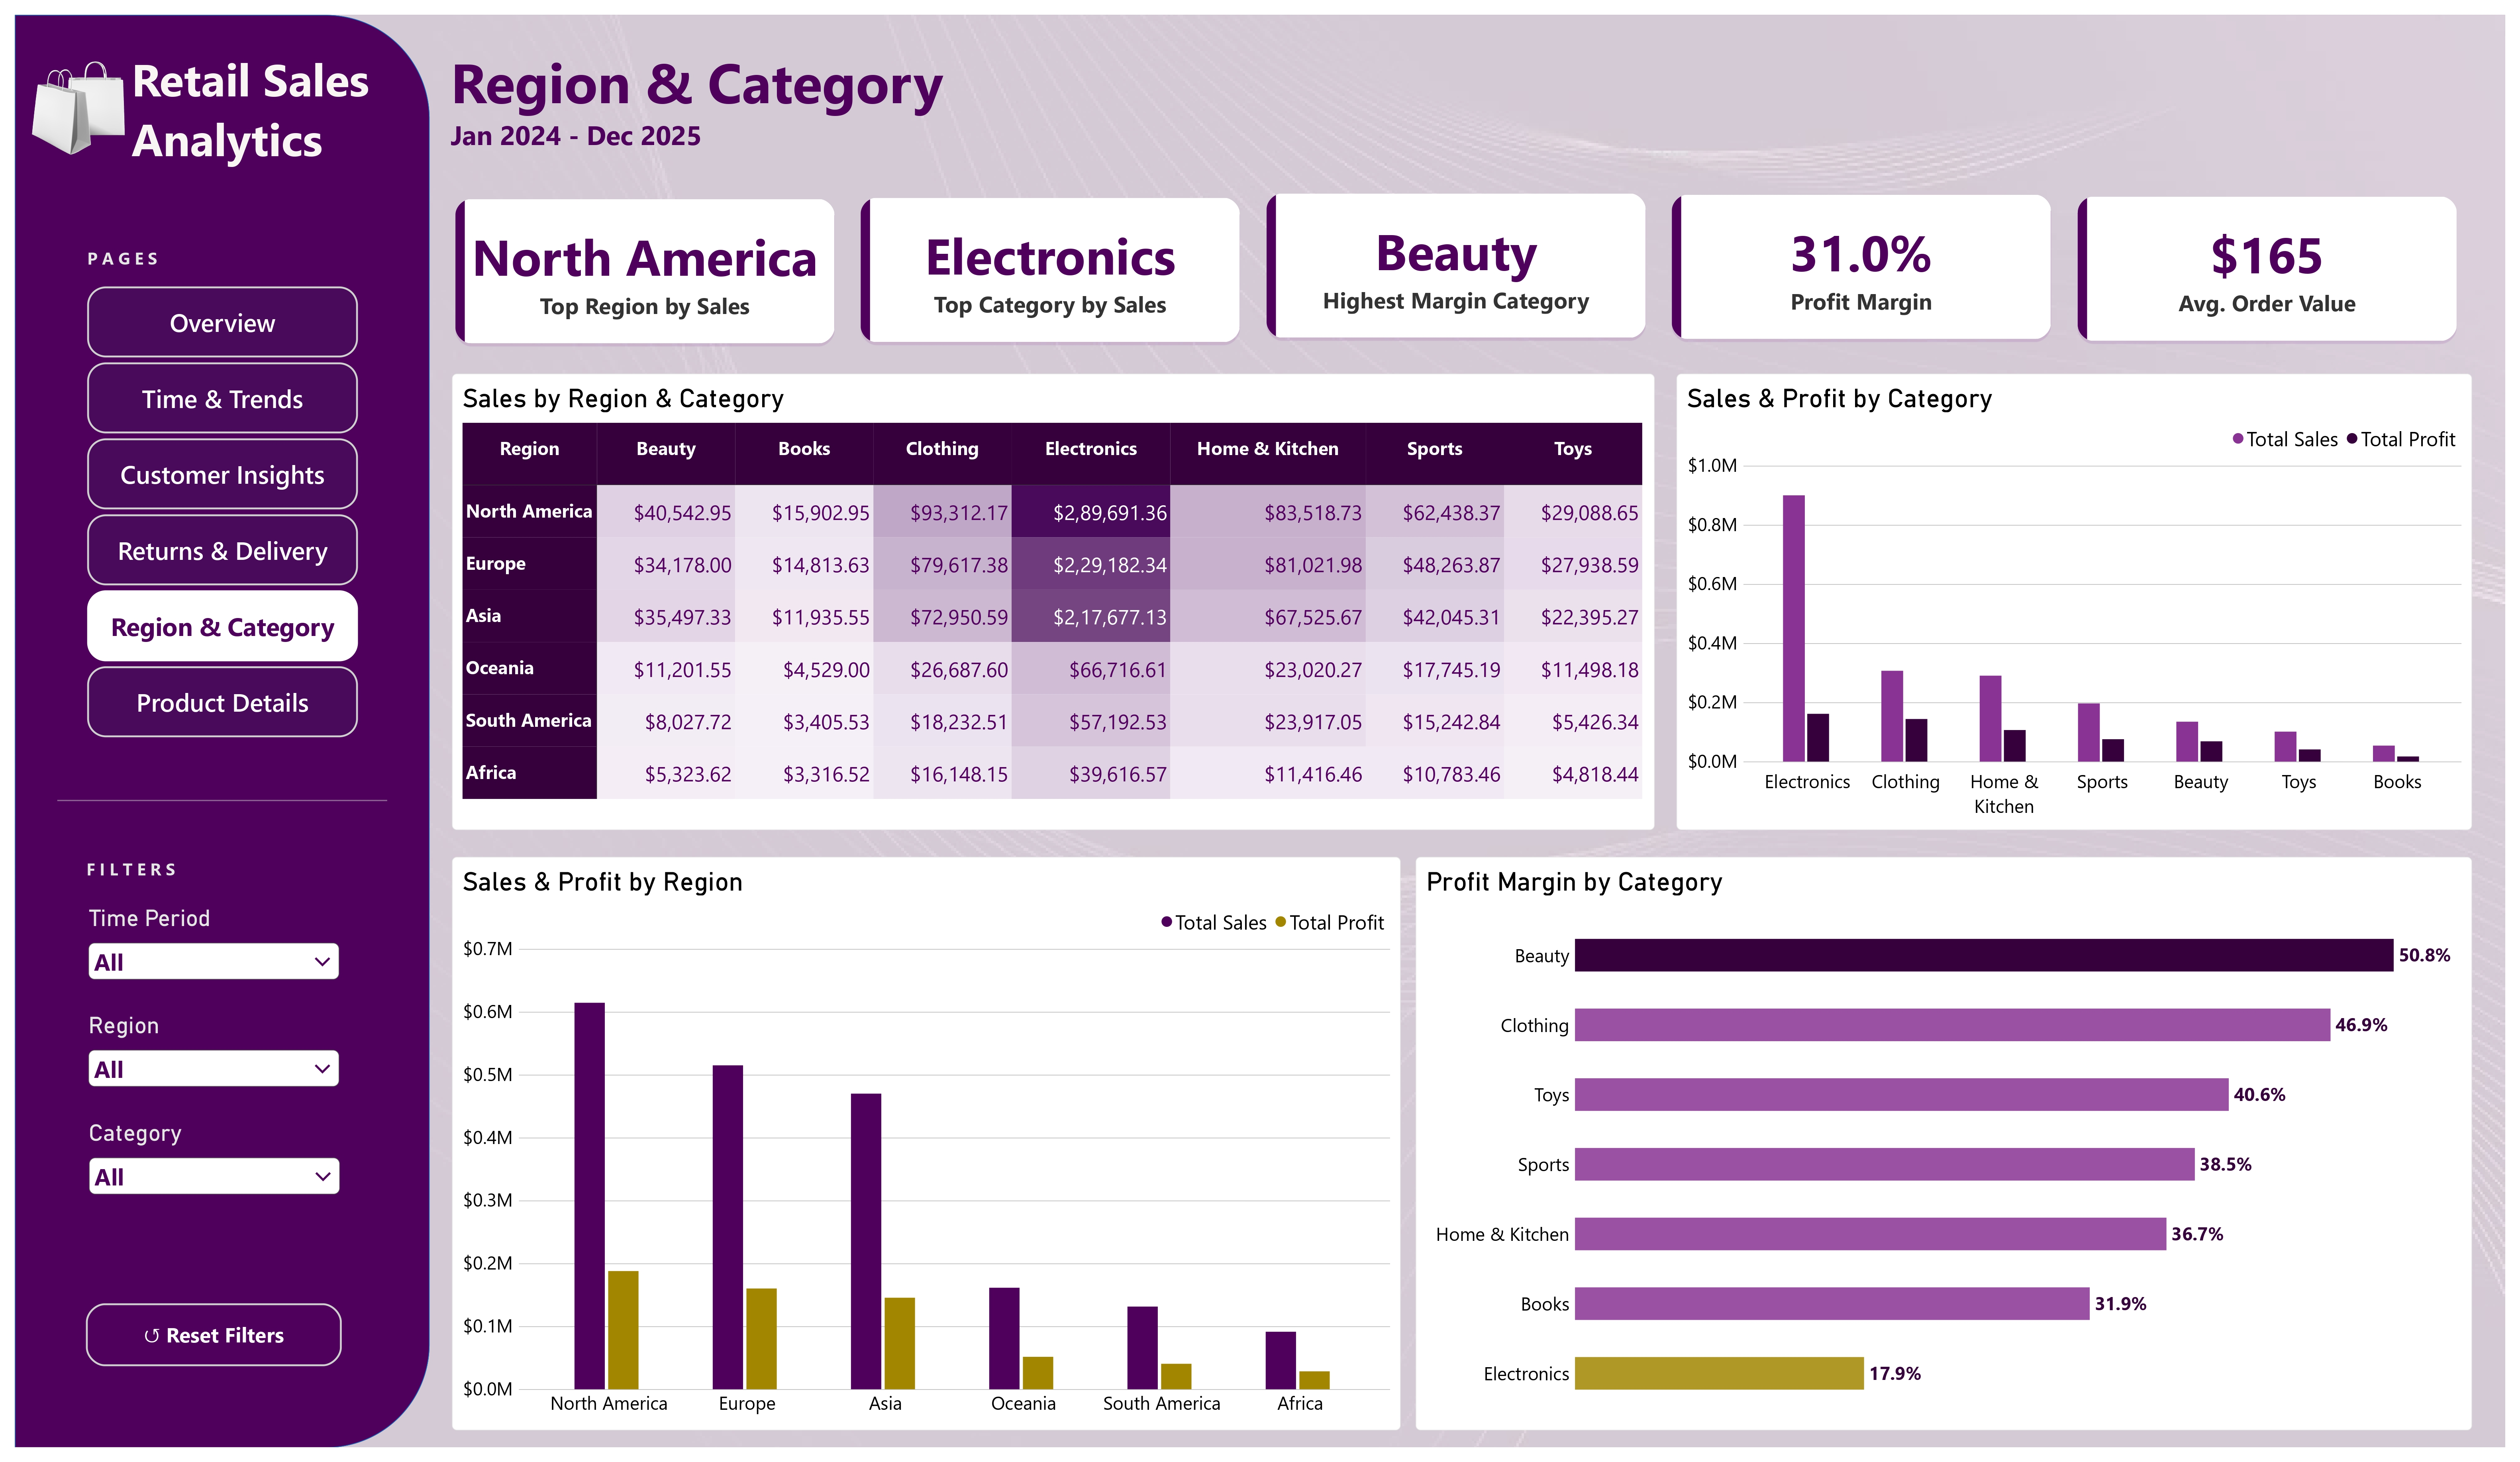

This screenshot's page, from the dashboard's own definition file:
{"tool":"powerbi","page":{"name":"Region & Category","canvas":[4000,2300],"ordinal":4},"visuals":[{"type":"shape","box":[0,0,666.3,2300.8],"z":0},{"type":"textbox","box":[186.7,53.3,419.4,215.6],"z":1000},{"type":"image","box":[0,35.3,203.8,227.3],"z":2000},{"type":"pageNavigator","box":[115.6,435.6,435.6,724.4],"z":3000},{"type":"textbox","box":[700,46.7,1236.7,143.3],"z":4000},{"type":"textbox","box":[700,163.3,420,70],"z":5000},{"type":"textbox","box":[116,372,132,40],"z":6000},{"type":"shape","box":[67.5,1150,530,222.5],"z":7000},{"type":"textbox","box":[115,1352.5,145,40],"z":8000},{"type":"listSlicer","title":"Time Period","fields":{"Values":["Date.Year"]},"box":[101.8,1413.6,435,160],"z":9000},{"type":"listSlicer","title":"Region","fields":{"Values":["Table1.region"]},"box":[102.2,1586.2,435,160],"z":10000},{"type":"listSlicer","title":"Category","fields":{"Values":["Table1.product_category"]},"box":[102.5,1758.8,435,160],"z":11000},{"type":"actionButton","box":[113.8,2068.8,411.2,101.2],"z":12000},{"type":"cardVisual","fields":{"Data":["Table1.Top Region by Sales"]},"box":[701.6,290,620,243],"z":13000},{"type":"cardVisual","fields":{"Data":["Table1.Top Category by Sales"]},"box":[1353.2,287.9,620,243],"z":14000},{"type":"cardVisual","title":"Average Order Value","fields":{"Data":["Table1.Profit Margin"]},"box":[2656.5,283.4,620,243],"z":15000},{"type":"cardVisual","fields":{"Data":["Table1.Avg. Order Value"]},"box":[3308.1,285.6,620,243],"z":16000},{"type":"cardVisual","fields":{"Data":["Table1.Highest Margin Category"]},"box":[2004.9,281.2,620,243],"z":17000},{"type":"pivotTable","title":"Sales by Region & Category","fields":{"Columns":["Table1.product_category"],"Rows":["Table1.region"],"Values":["Table1.Total Sales"]},"box":[701.6,576.2,1932.4,733],"z":19000},{"type":"clusteredColumnChart","title":"Sales & Profit by Region","fields":{"Category":["Table1.region"],"Y":["Table1.Total Sales","Table1.Total Profit"]},"box":[701.6,1352.3,1524.7,921.1],"z":20000},{"type":"clusteredBarChart","title":"Profit Margin by Category","fields":{"Category":["Table1.product_category"],"Y":["Table1.Profit Margin"]},"box":[2249.8,1352.3,1697.2,921.1],"z":21000},{"type":"clusteredColumnChart","title":"Sales & Profit by Category","fields":{"Category":["Table1.product_category"],"Y":["Table1.Total Sales","Table1.Total Profit"]},"box":[2669.2,576.2,1277.8,733],"z":22000}]}

Visuals, with their boxes on the page's 4000x2300 design canvas (x1, y1, x2, y2). These are canvas units, not pixel positions in the 2520x1462 screenshot, which may show the page scaled, cropped or inside an application window:
shape: <region>0, 0, 666, 2301</region>
textbox: <region>187, 53, 606, 269</region>
image: <region>0, 35, 204, 263</region>
pageNavigator: <region>116, 436, 551, 1160</region>
textbox: <region>700, 47, 1937, 190</region>
textbox: <region>700, 163, 1120, 233</region>
textbox: <region>116, 372, 248, 412</region>
shape: <region>68, 1150, 598, 1372</region>
textbox: <region>115, 1352, 260, 1392</region>
"Time Period" listSlicer: <region>102, 1414, 537, 1574</region>
"Region" listSlicer: <region>102, 1586, 537, 1746</region>
"Category" listSlicer: <region>102, 1759, 538, 1919</region>
actionButton: <region>114, 2069, 525, 2170</region>
cardVisual - Table1.Top Region by Sales: <region>702, 290, 1322, 533</region>
cardVisual - Table1.Top Category by Sales: <region>1353, 288, 1973, 531</region>
"Average Order Value" cardVisual: <region>2656, 283, 3276, 526</region>
cardVisual - Table1.Avg. Order Value: <region>3308, 286, 3928, 529</region>
cardVisual - Table1.Highest Margin Category: <region>2005, 281, 2625, 524</region>
"Sales by Region & Category" pivotTable: <region>702, 576, 2634, 1309</region>
"Sales & Profit by Region" clusteredColumnChart: <region>702, 1352, 2226, 2273</region>
"Profit Margin by Category" clusteredBarChart: <region>2250, 1352, 3947, 2273</region>
"Sales & Profit by Category" clusteredColumnChart: <region>2669, 576, 3947, 1309</region>
